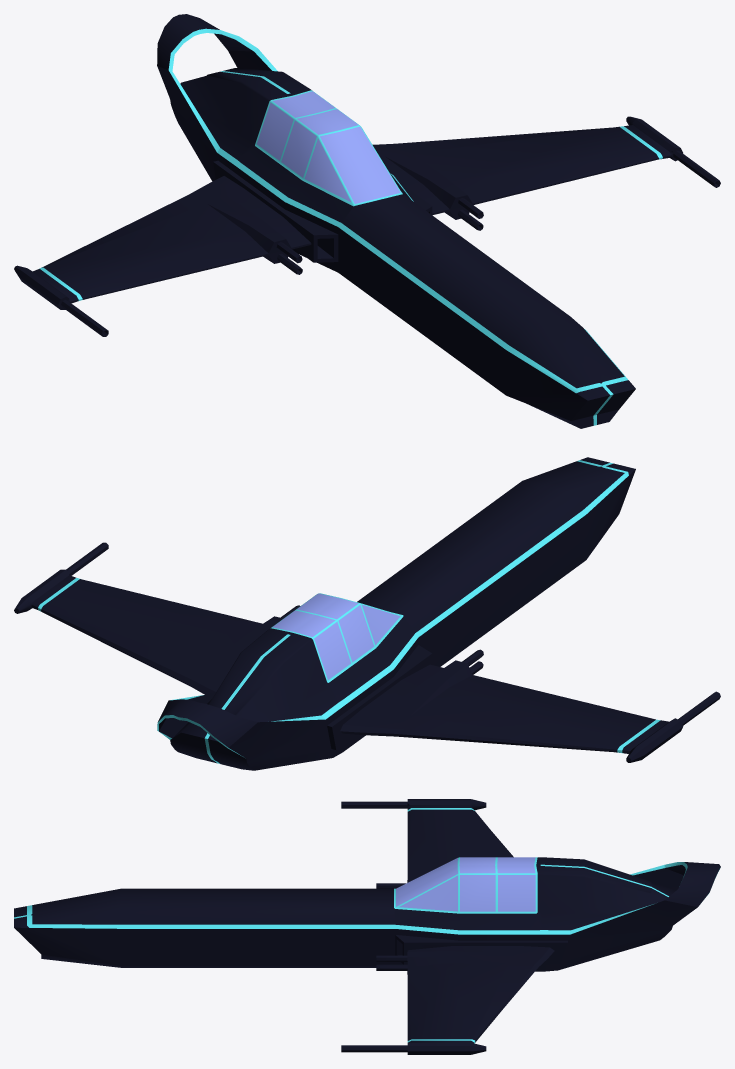
The model's file is lightning.FBX.
3 renders of one model, top to bottom at view 1: azimuth 30°, elevation 25°; view 2: azimuth 150°, elevation 25°; view 3: azimuth 270°, elevation 25°, orthographic. The views are drawn at different scales.
Visible parts, largest first — view 1: lance; view 2: lance; view 3: lance.
Boxes of the visible parts, x1=… form: lance: x1=14, y1=14, x2=720, y2=428; lance: x1=14, y1=457, x2=720, y2=770; lance: x1=14, y1=799, x2=720, y2=1054.
Size of the model in its own units: 28.69 by 5.01 by 34.44.
